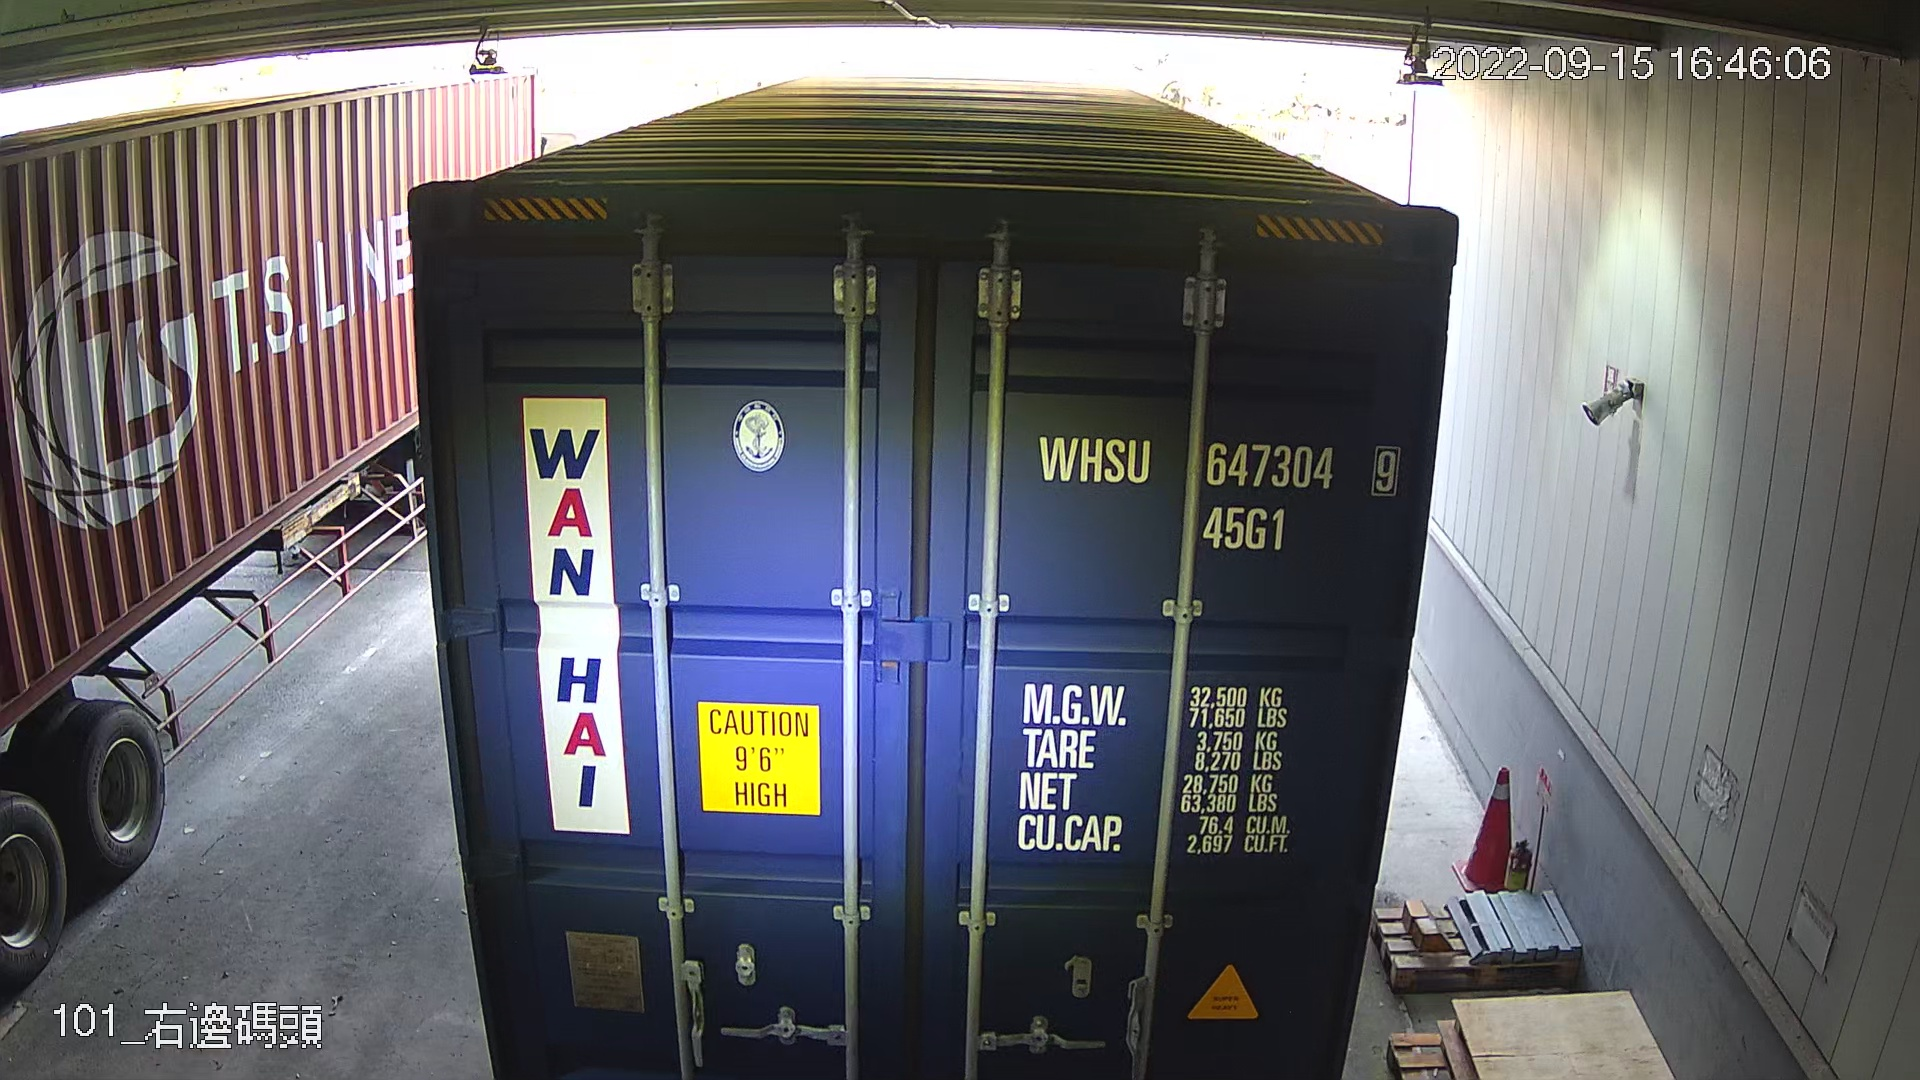container: (1025, 422, 1414, 567)
